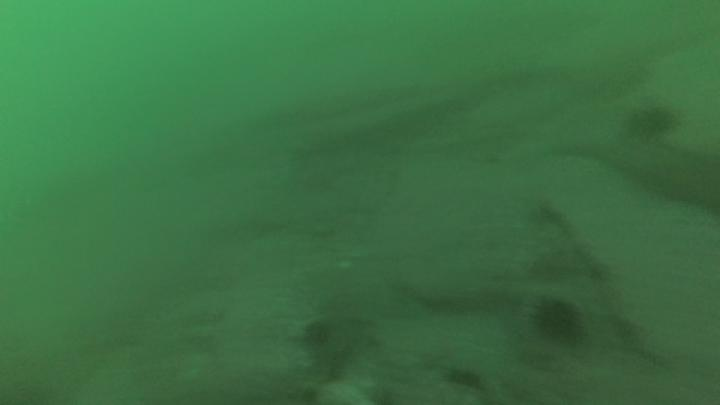echinus: (536, 304, 578, 340), (636, 111, 674, 139)
